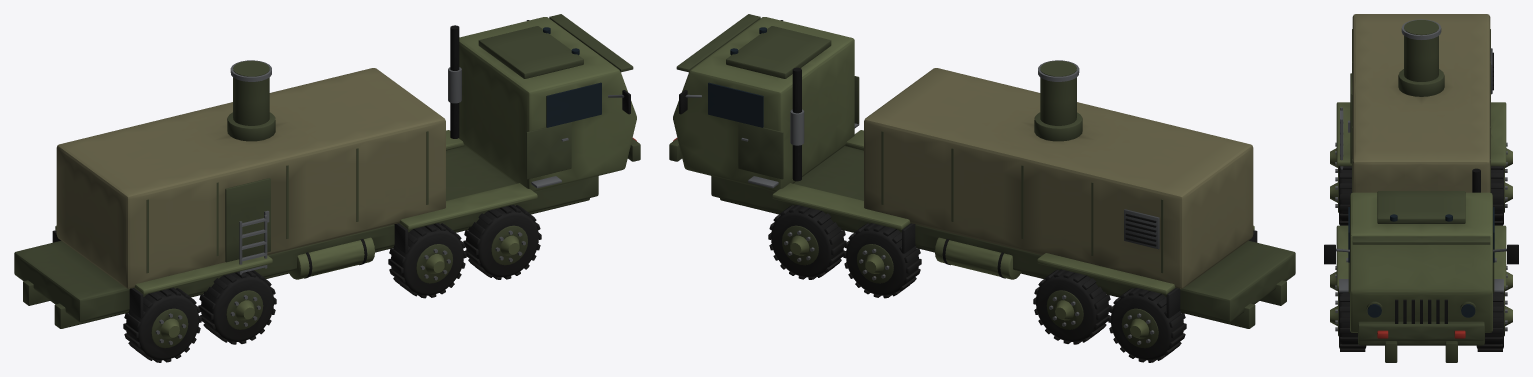
Rendered from radar_base.glb.
3 views of the same model, side by side, from view 1: azimuth 30°, elevation 25°; view 2: azimuth 150°, elevation 25°; view 3: azimuth 270°, elevation 25° (orthographic). The views are drawn at different scales.
Parts seen in each view (by area): view 1: Cone; view 2: Cone; view 3: Cone.
Part boxes in pixels (left/top/right/bottom): Cone: left=14, top=14, right=640, bottom=362; Cone: left=669, top=14, right=1295, bottom=362; Cone: left=1324, top=14, right=1518, bottom=362.
Bounding box in the file's own units: 11.46 × 4.44 × 3.54.
